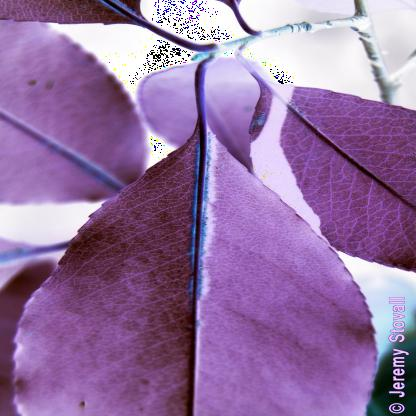cherry leaf: (14, 125, 383, 416)
